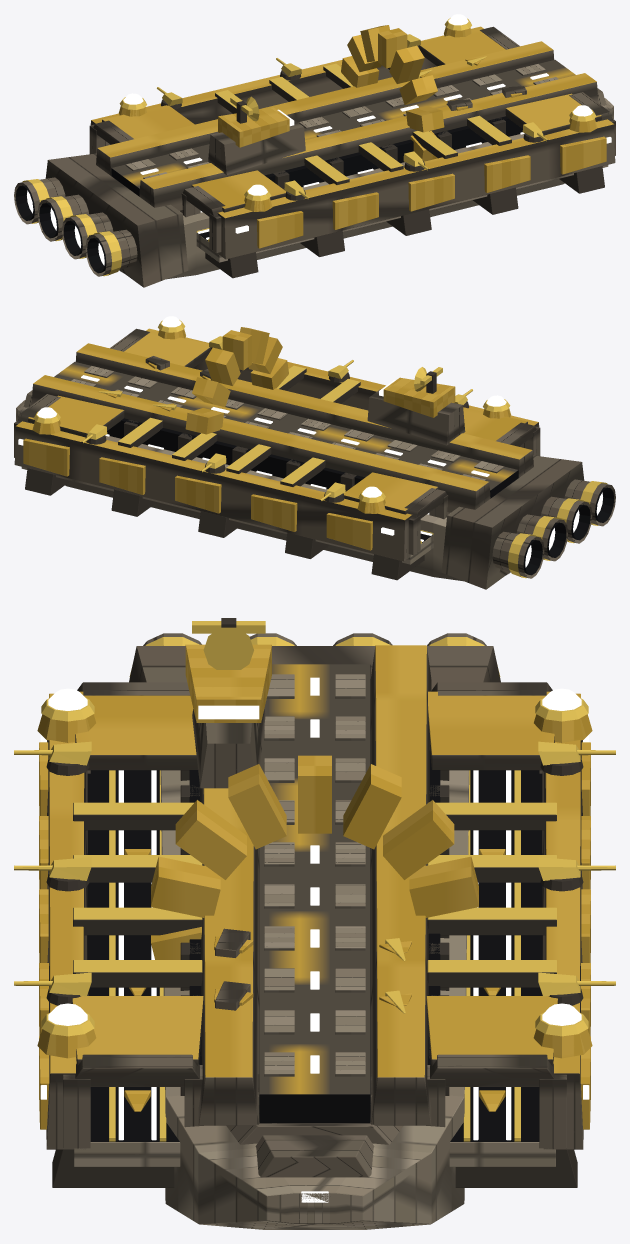
The model's file is carrier.glb.
3 renders of one model, top to bottom at view 1: azimuth 30°, elevation 25°; view 2: azimuth 150°, elevation 25°; view 3: azimuth 270°, elevation 25°, orthographic. The views are drawn at different scales.
Visible parts, largest first — view 1: hull_body, engine_block, sensor_island, shield_domes, weapon_turrets; view 2: hull_body, engine_block, sensor_island, shield_domes, weapon_turrets; view 3: hull_body, sensor_island, shield_domes, engine_block, weapon_turrets.
Boxes of the visible parts, <box> form: hull_body: <box>89,25,615,279</box>; engine_block: <box>14,153,188,287</box>; sensor_island: <box>208,96,305,175</box>; shield_domes: <box>119,14,597,211</box>; weapon_turrets: <box>157,34,548,200</box>; hull_body: <box>14,327,540,581</box>; engine_block: <box>441,455,615,589</box>; sensor_island: <box>367,367,465,445</box>; shield_domes: <box>32,316,510,513</box>; weapon_turrets: <box>81,336,472,502</box>; hull_body: <box>39,645,590,1229</box>; sensor_island: <box>185,618,271,788</box>; shield_domes: <box>37,688,592,1058</box>; engine_block: <box>129,633,500,689</box>; weapon_turrets: <box>14,741,615,1005</box>.
Bounding box in the file's own units: 55 × 15.39 × 26.66.
Materials: 1 (1 with a texture image).
